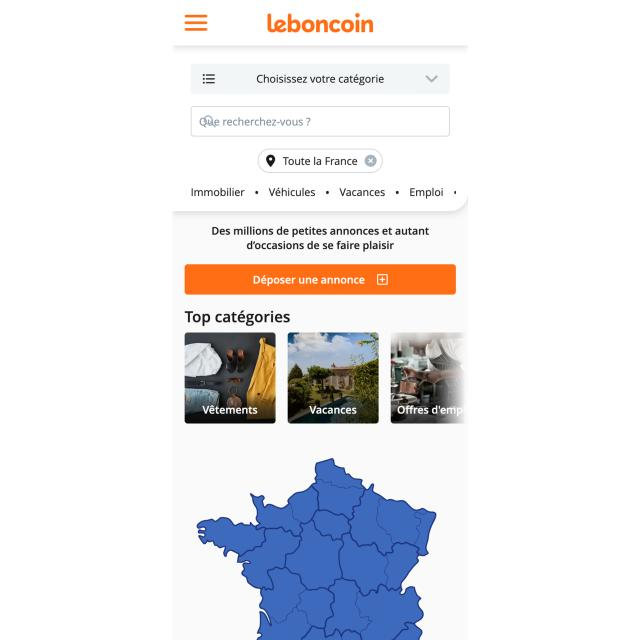CheckBox: (184, 263, 456, 296), (256, 146, 384, 175)
CheckedTextView: (190, 105, 450, 138)
Input field: (208, 222, 433, 256)
Switch: (183, 331, 468, 425)
accordion: (165, 45, 477, 55)
alert: (190, 62, 449, 95)
bag: (168, 0, 470, 52)
breadcrumbs: (183, 308, 293, 328)
carousel: (182, 12, 210, 34), (199, 70, 219, 88), (422, 73, 440, 83), (365, 154, 377, 168), (376, 274, 389, 286), (265, 153, 275, 168)
data feed: (253, 72, 385, 87), (253, 274, 368, 287)
date picker: (263, 12, 375, 37)
decoration: (181, 10, 211, 36)
